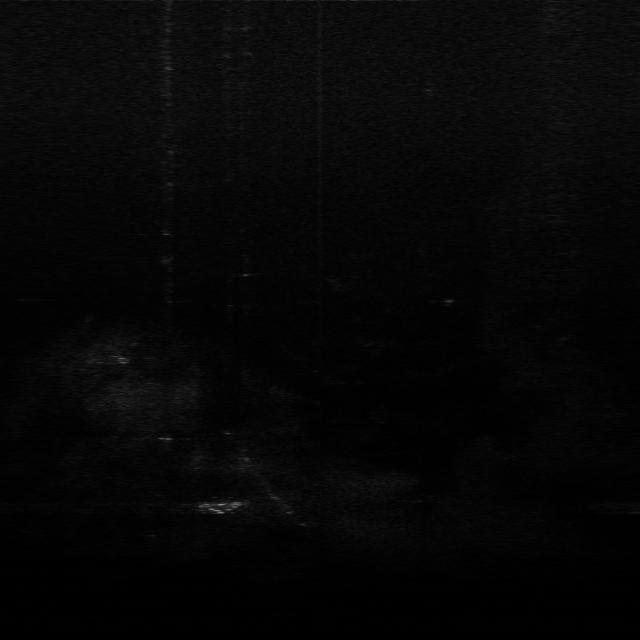rov: (200, 498, 244, 516)
